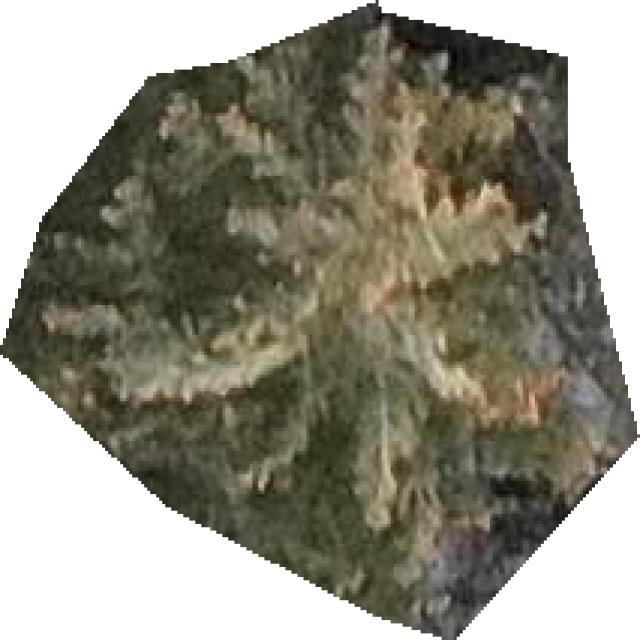spruce: (0, 3, 637, 637)
